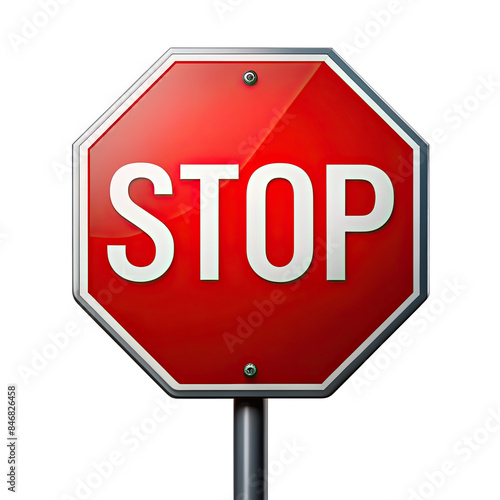StopSign: (71, 48, 429, 398)
